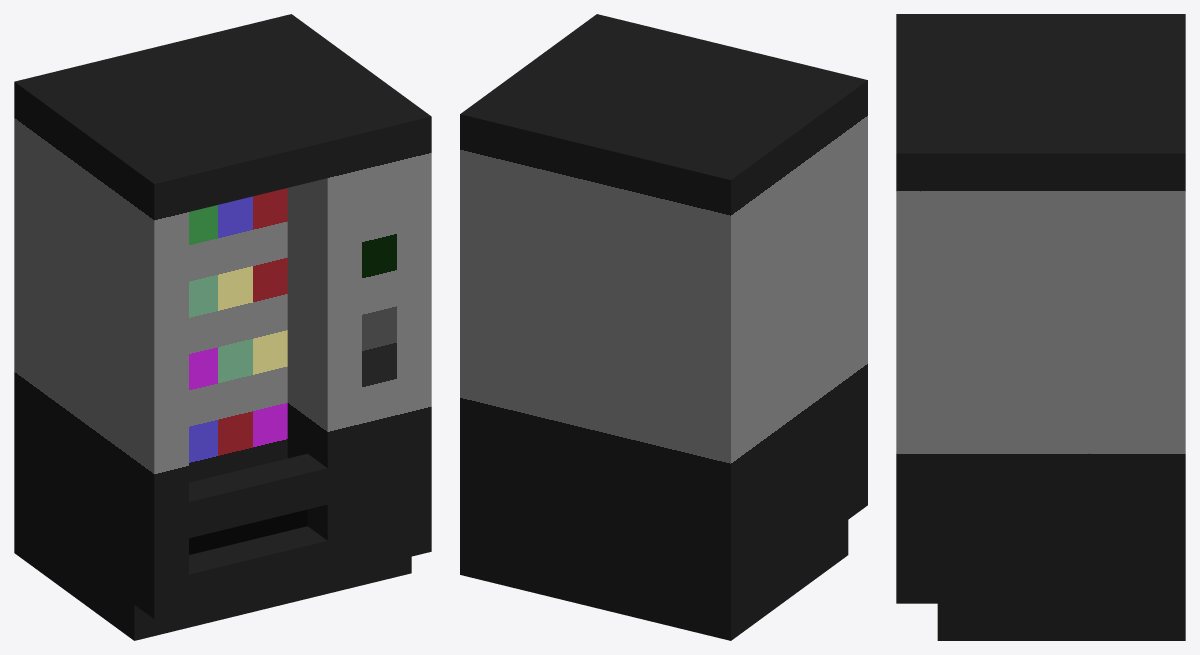
The picture shows the model from 3 angles, left to right: view 1: azimuth 30°, elevation 25°; view 2: azimuth 150°, elevation 25°; view 3: azimuth 270°, elevation 25°; orthographic projection. The views are drawn at different scales.
Visible parts, largest first — view 1: Vendingmachine; view 2: Vendingmachine; view 3: Vendingmachine.
Boxes of the visible parts, box(x1,y1,x2,y2) form: Vendingmachine: box(14, 14, 431, 640); Vendingmachine: box(460, 14, 867, 640); Vendingmachine: box(896, 14, 1185, 640).
Bounding box in the file's own units: 8 × 13 × 7.
1 material, 1 textured.
